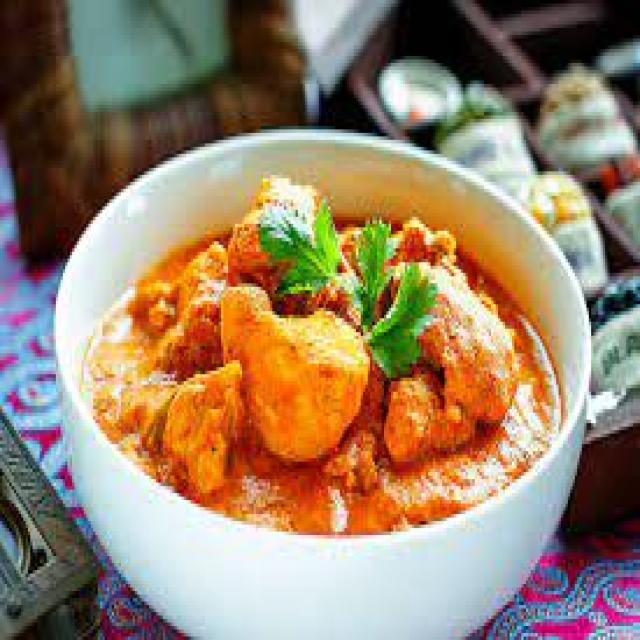Frango: (91, 154, 563, 538)
